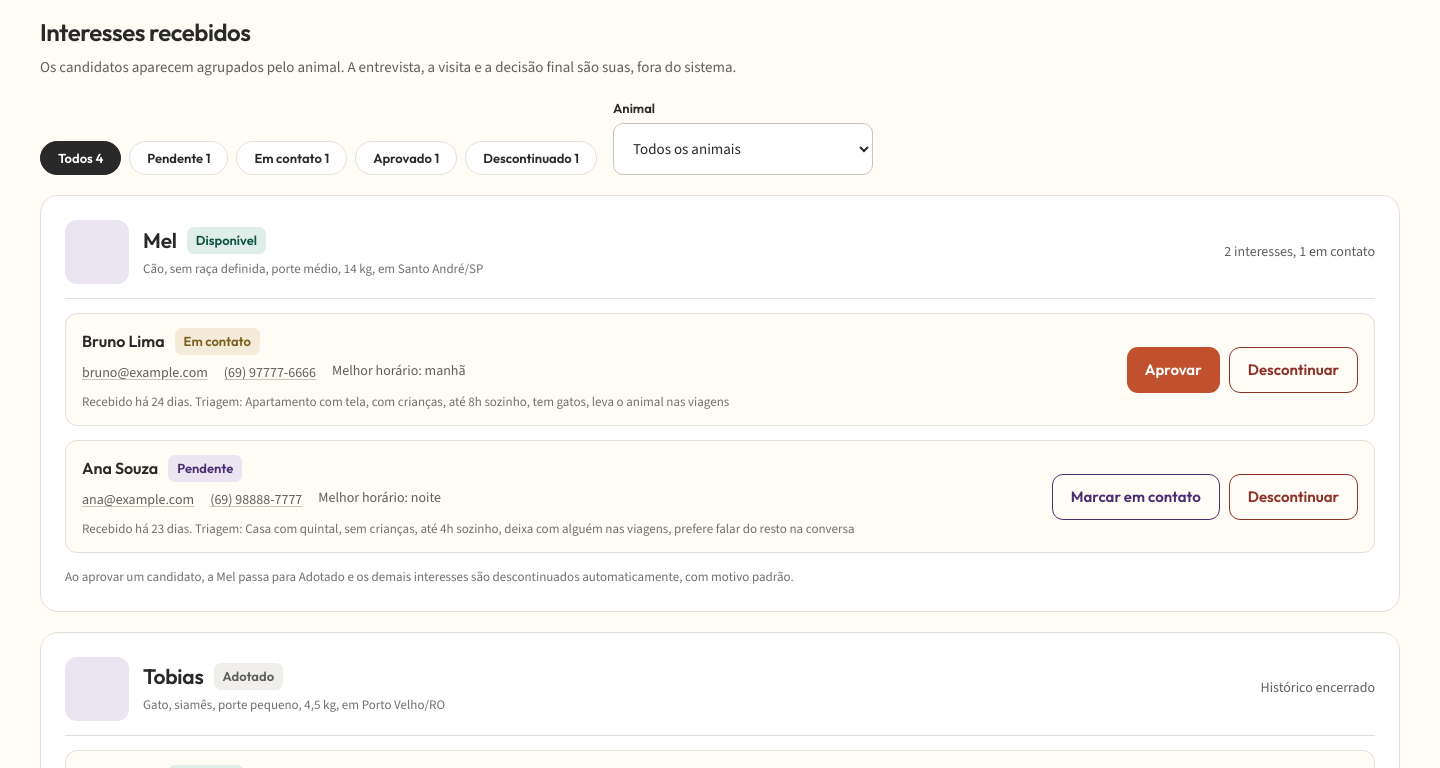
Test: ações › descontinuar exige o motivo e envia junto
Expected: the heading "Ana Souza" is shown, [82,458,158,480]
Click the button "Descontinuar" in the row of "(69) 98888-7777" at [1293, 497], box [1229,474,1358,520]
(page scrolled)
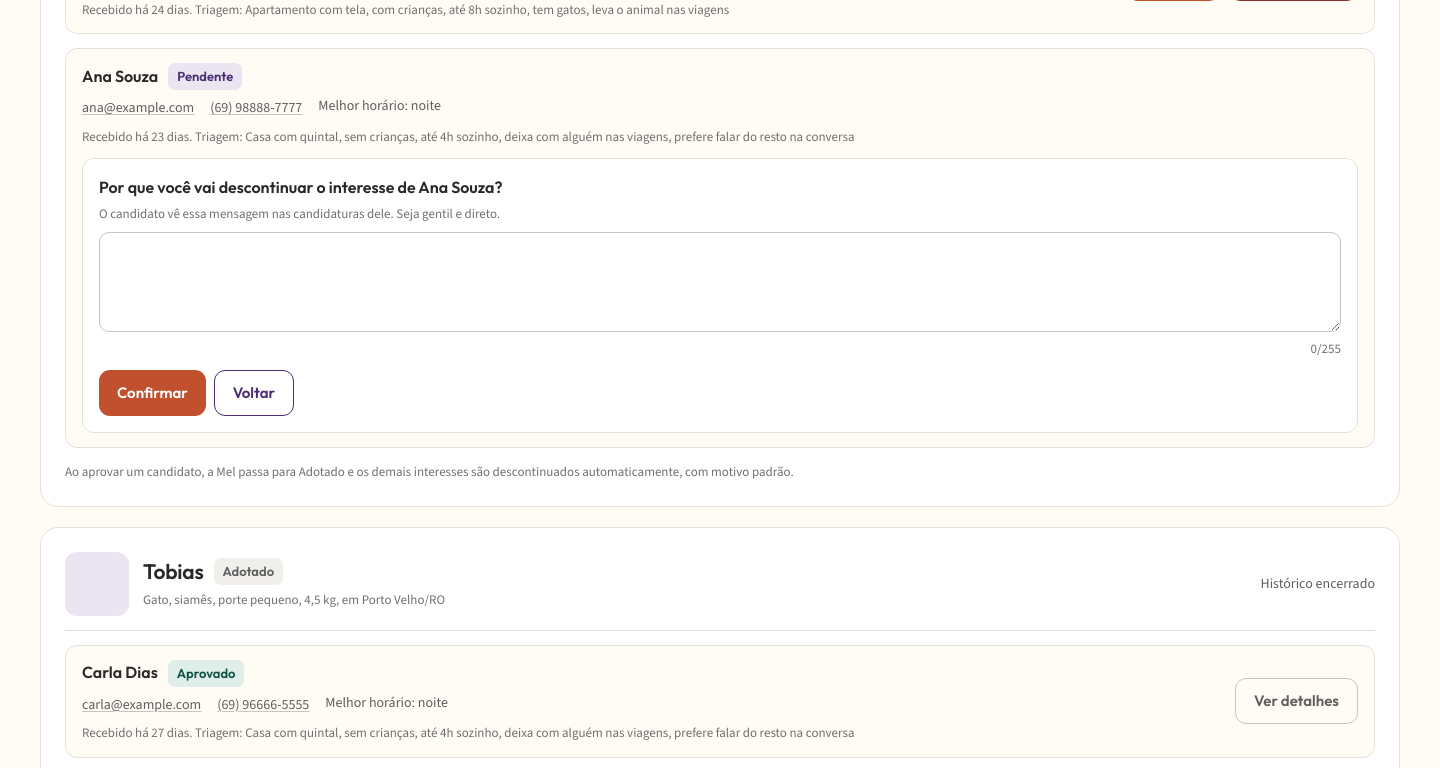
Click the button "Confirmar" at [152, 393], box [99,370,206,416]
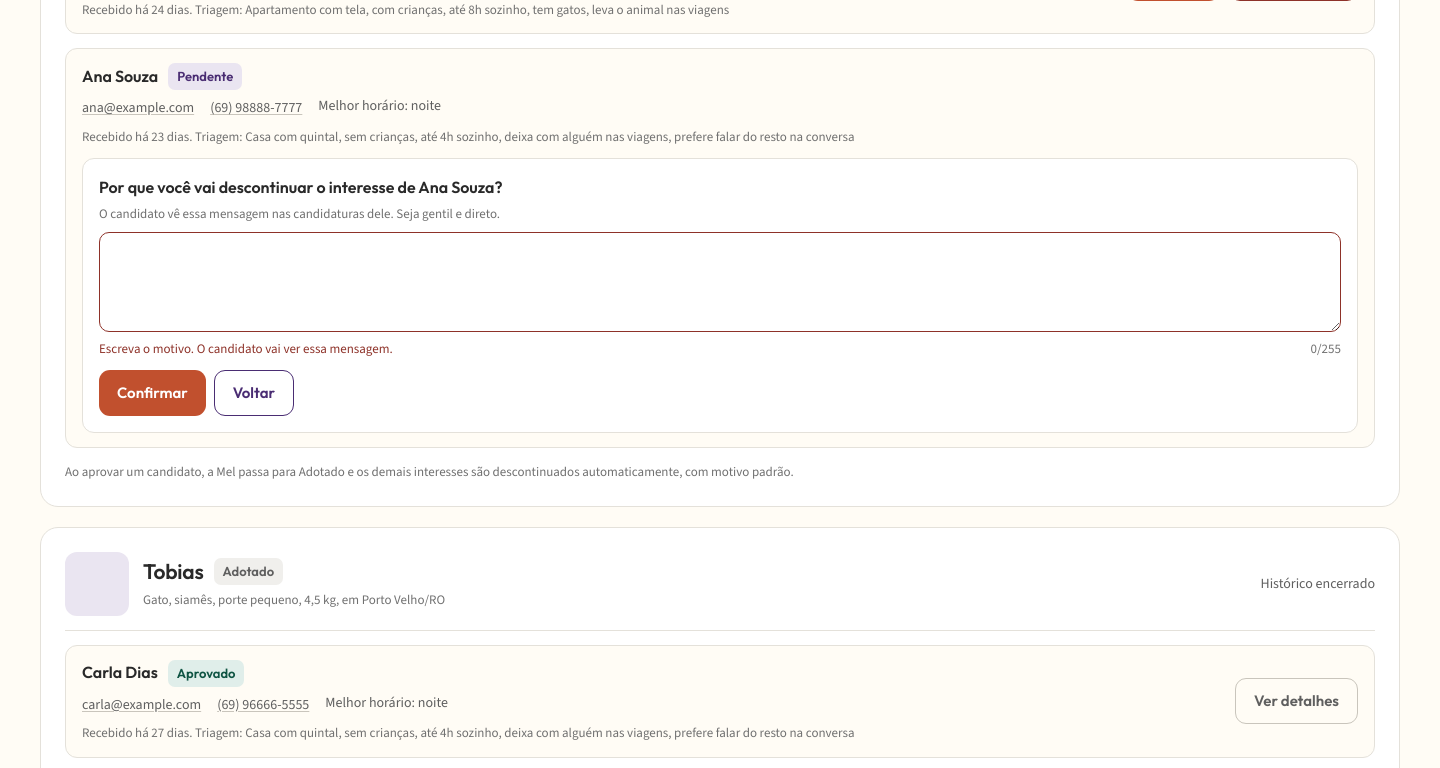
Now the text "Escreva o motivo. O candidato vai ver essa mensagem." is shown, box [99,339,393,358]
Type "Procuramos uma casa com tela nas janelas." into the text box labelled "Por que você vai descontinuar o interesse de Ana Souza?" at [720, 282], box [99,232,1341,332]
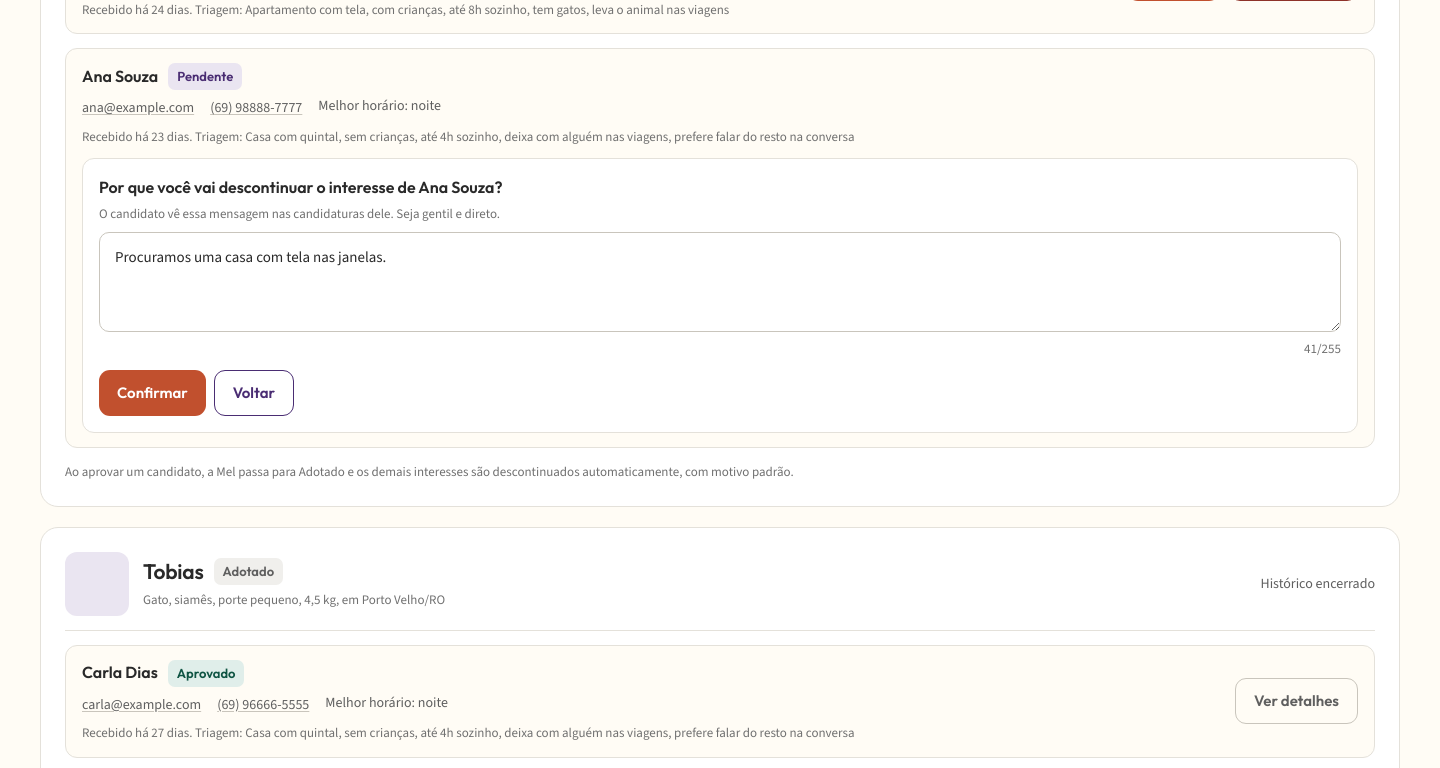
Click the button "Confirmar" at [152, 393], box [99,370,206,416]
(page scrolled)
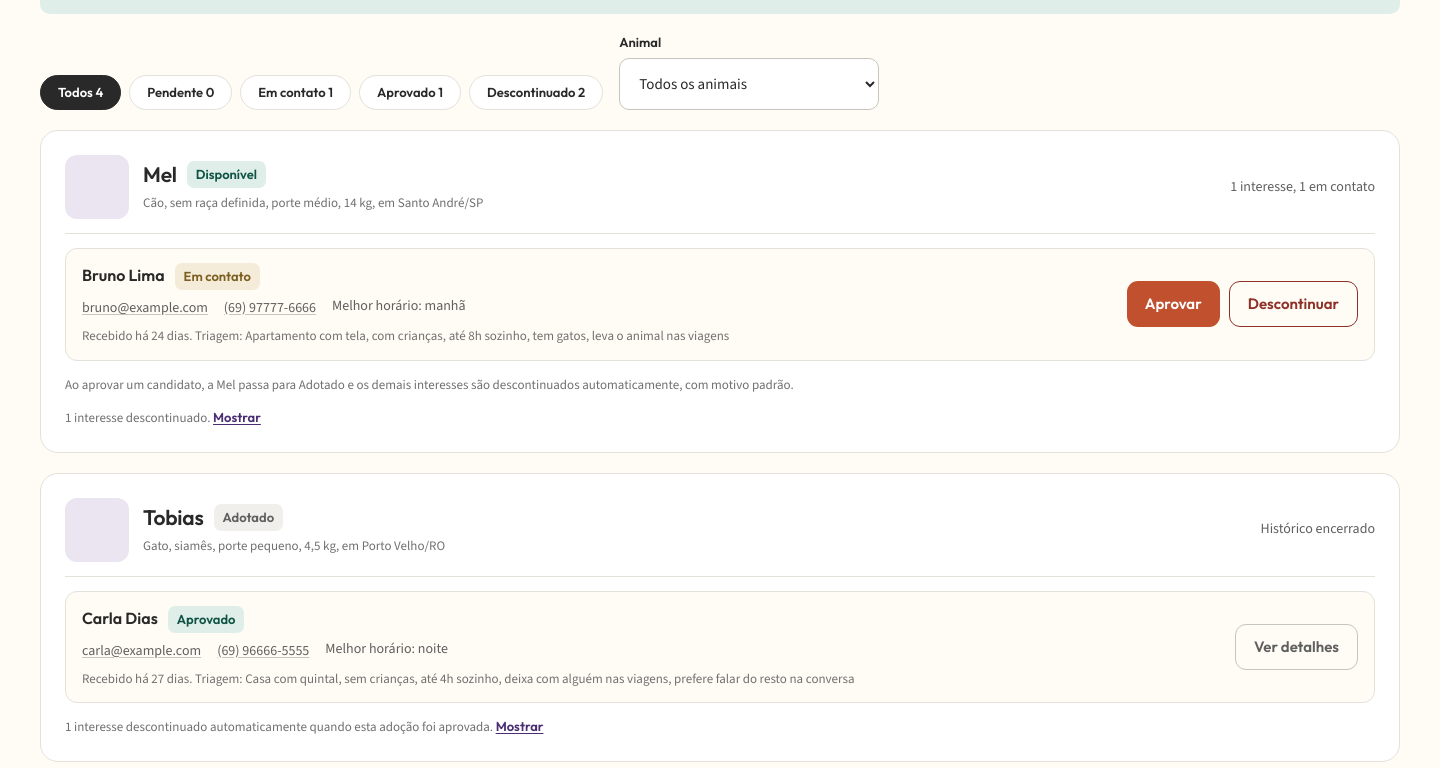
Now the text "1 interesse descontinuado. Mostrar" is shown, box [65,408,261,428]
Click the button with aria-label "Mostrar interesses descontinuados de Mel" at [237, 418], box [213,408,261,428]
(page scrolled)
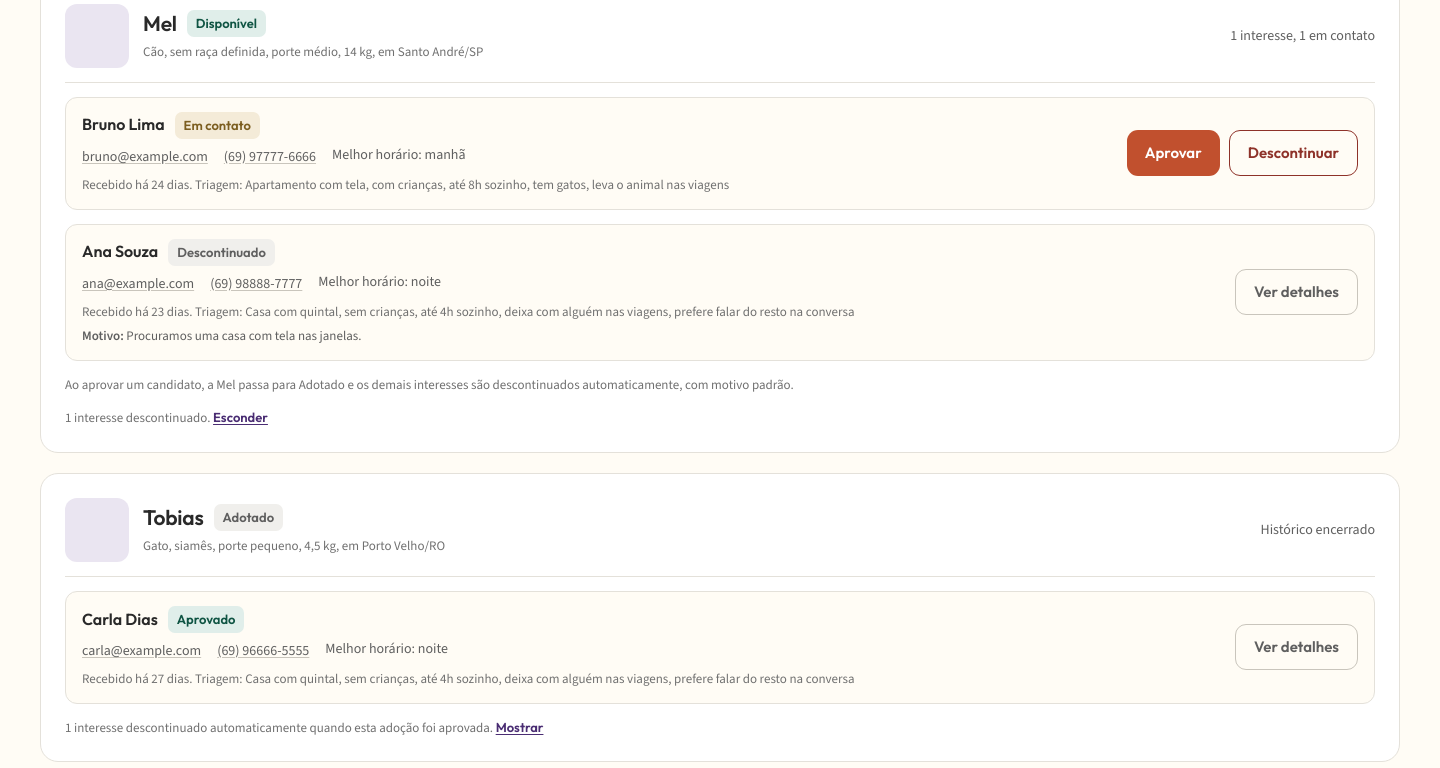
Now the text "Procuramos uma casa com tela nas janelas." is shown, box [126,327,362,344]
